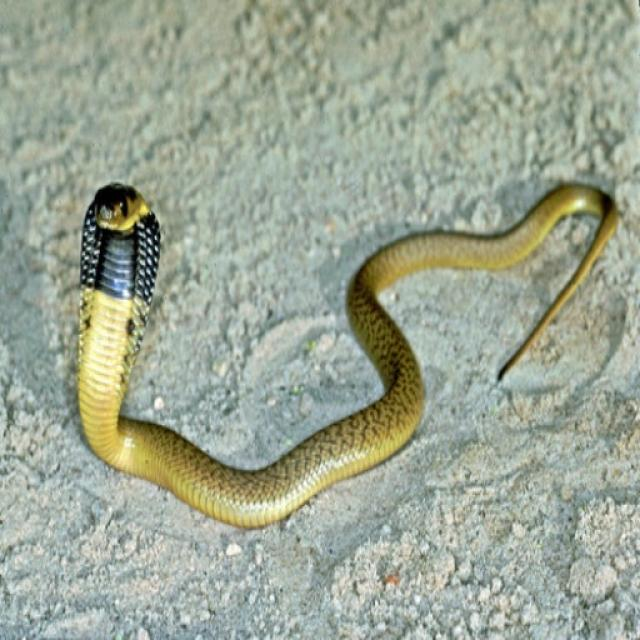snake: (57, 159, 619, 560)
